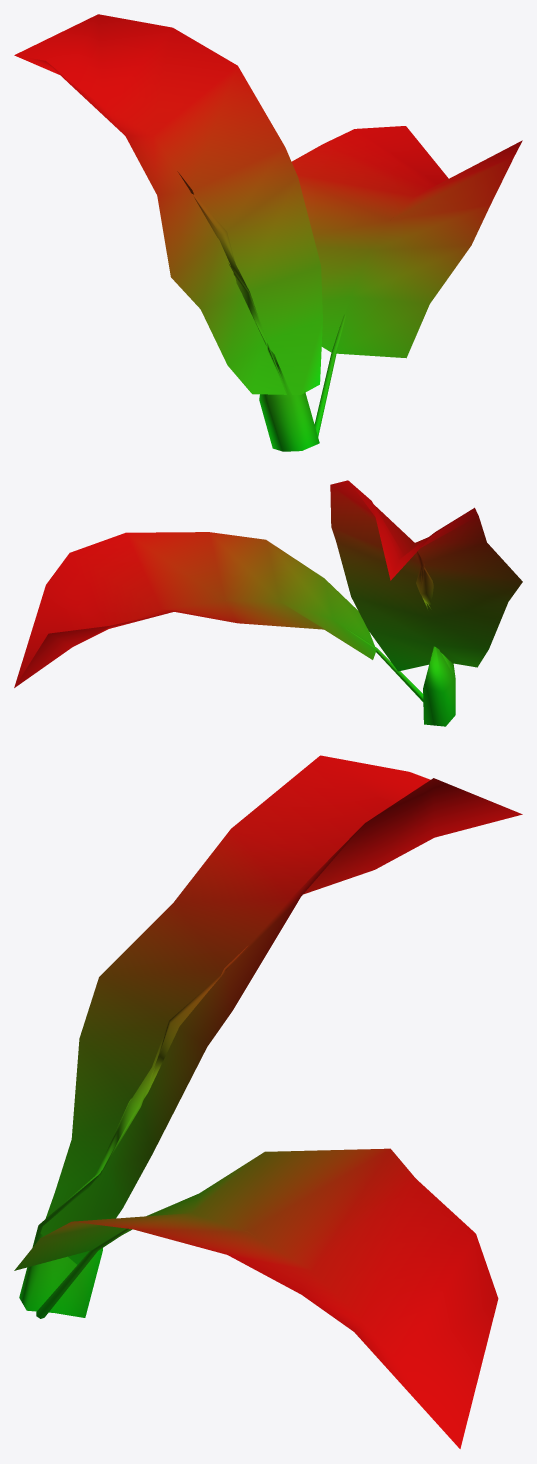
Rendered from Lady Fern_LOD3_Var8_wdvlditia.fbx.
3 renders of one model, top to bottom at view 1: azimuth 30°, elevation 25°; view 2: azimuth 150°, elevation 25°; view 3: azimuth 270°, elevation 25°, orthographic. The views are drawn at different scales.
Parts seen in each view (by area): view 1: _6otz_Var8_LOD3; view 2: _6otz_Var8_LOD3; view 3: _6otz_Var8_LOD3.
Boxes of the visible parts, left/top/right/bottom form: _6otz_Var8_LOD3: left=14, top=14, right=522, bottom=451; _6otz_Var8_LOD3: left=14, top=480, right=522, bottom=726; _6otz_Var8_LOD3: left=14, top=755, right=522, bottom=1448.
Size of the model in its own units: 35.43 by 26.07 by 24.31.
